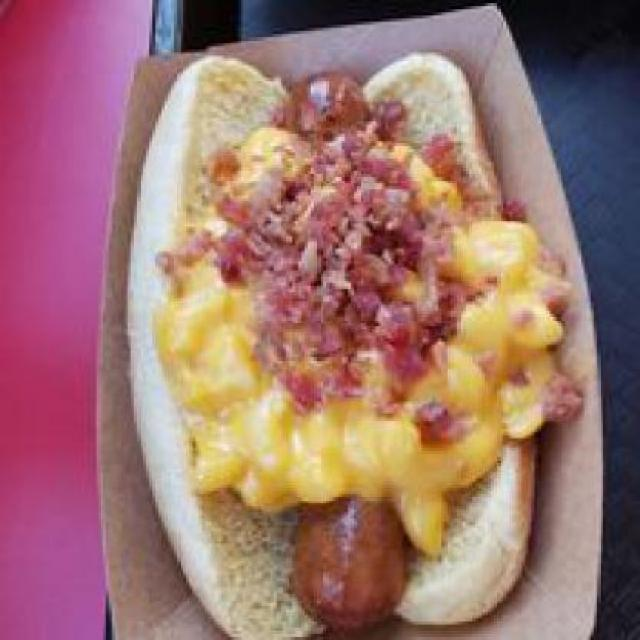hot dog: (270, 482, 422, 624), (273, 59, 370, 128)
macaroni and cheese: (150, 121, 578, 510)
